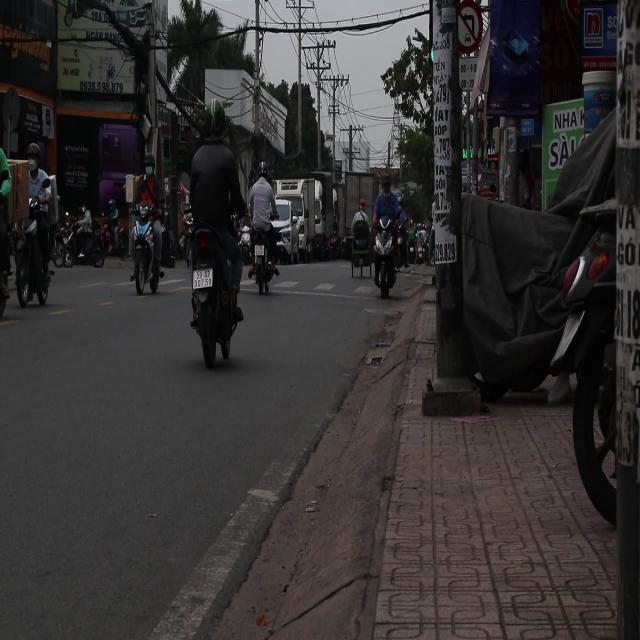motorbike: (188, 224, 245, 368), (131, 199, 169, 306), (246, 224, 281, 296), (66, 211, 110, 267), (372, 218, 402, 298), (54, 214, 88, 268)
truck: (274, 177, 331, 260)
